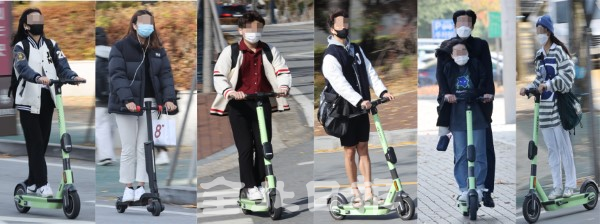scooter: (324, 97, 415, 224), (11, 78, 92, 217), (519, 85, 600, 224), (226, 88, 286, 221), (439, 88, 495, 224), (112, 98, 172, 221)
